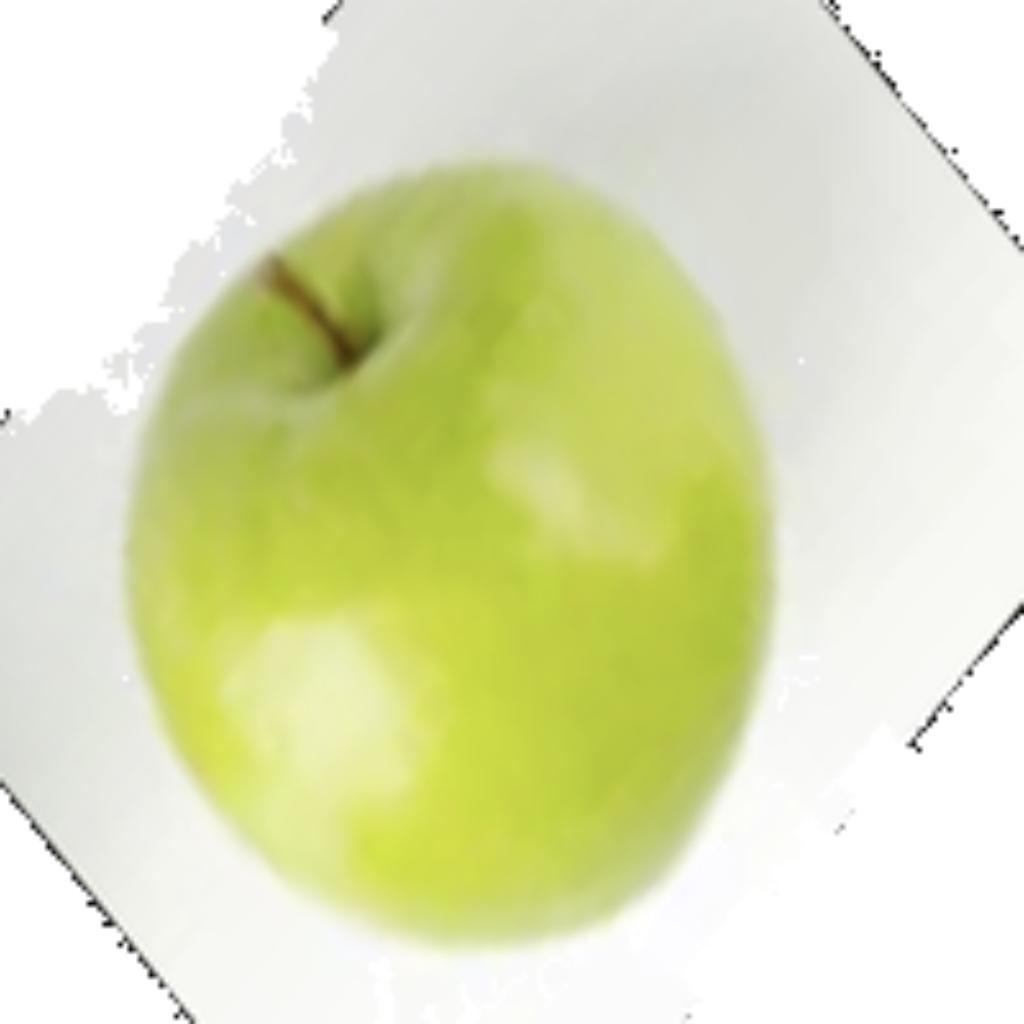apple: (36, 95, 804, 957)
